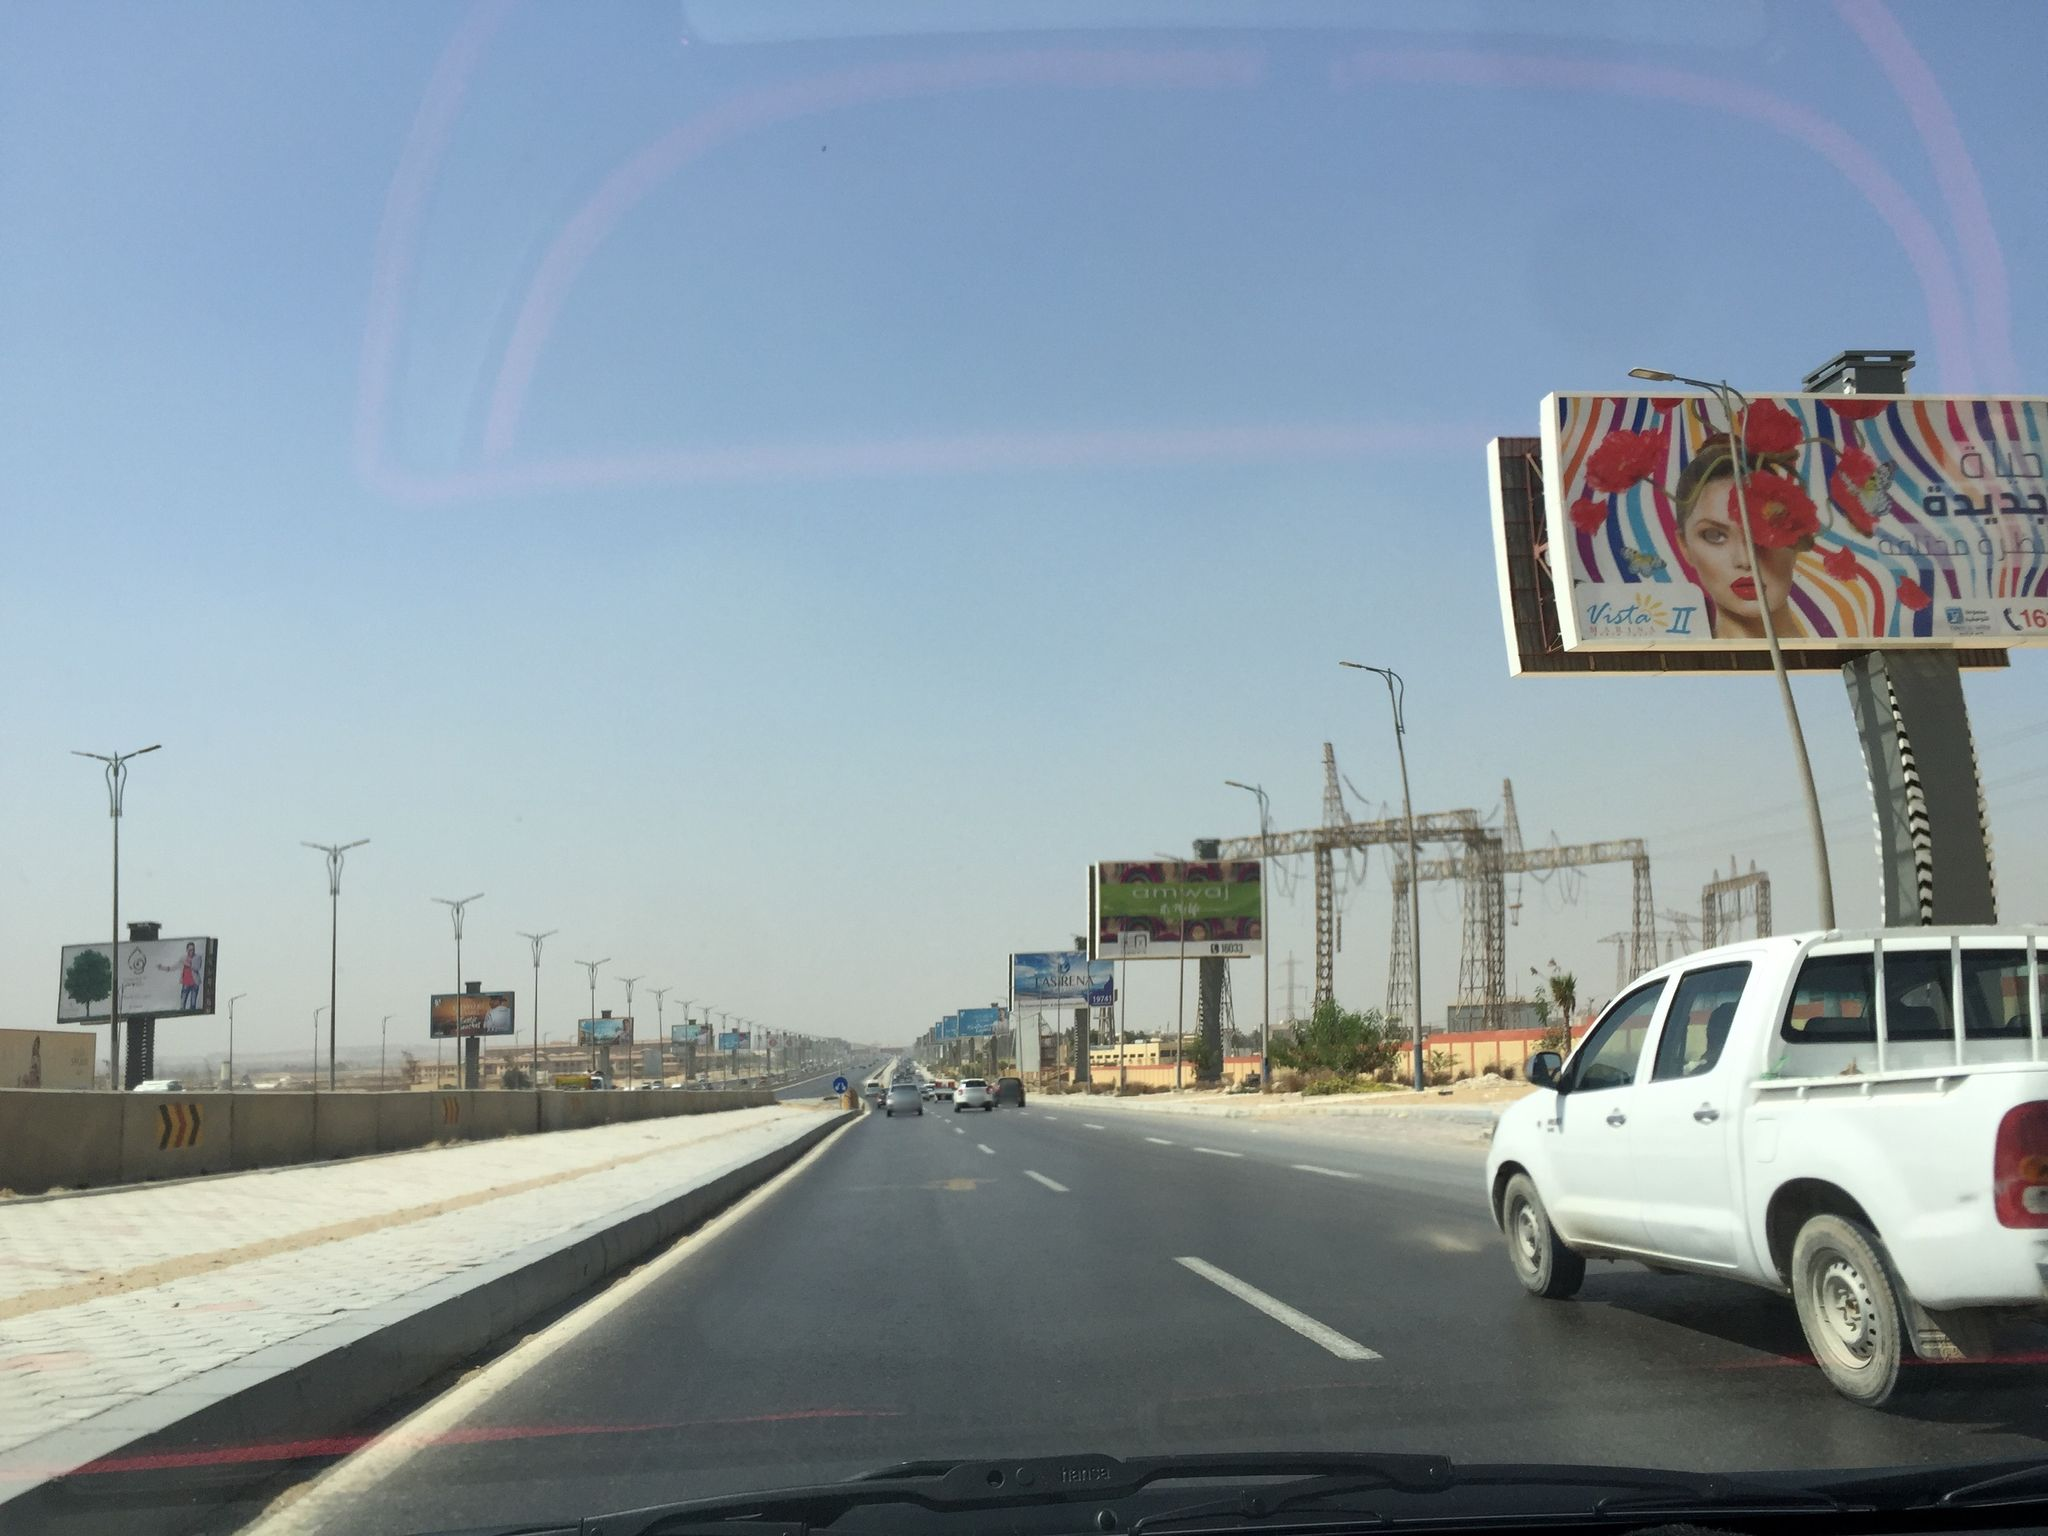car: (951, 1078, 993, 1112), (884, 1084, 922, 1115), (992, 1076, 1026, 1107)
truck: (1480, 913, 2048, 1407), (934, 1078, 956, 1104)
